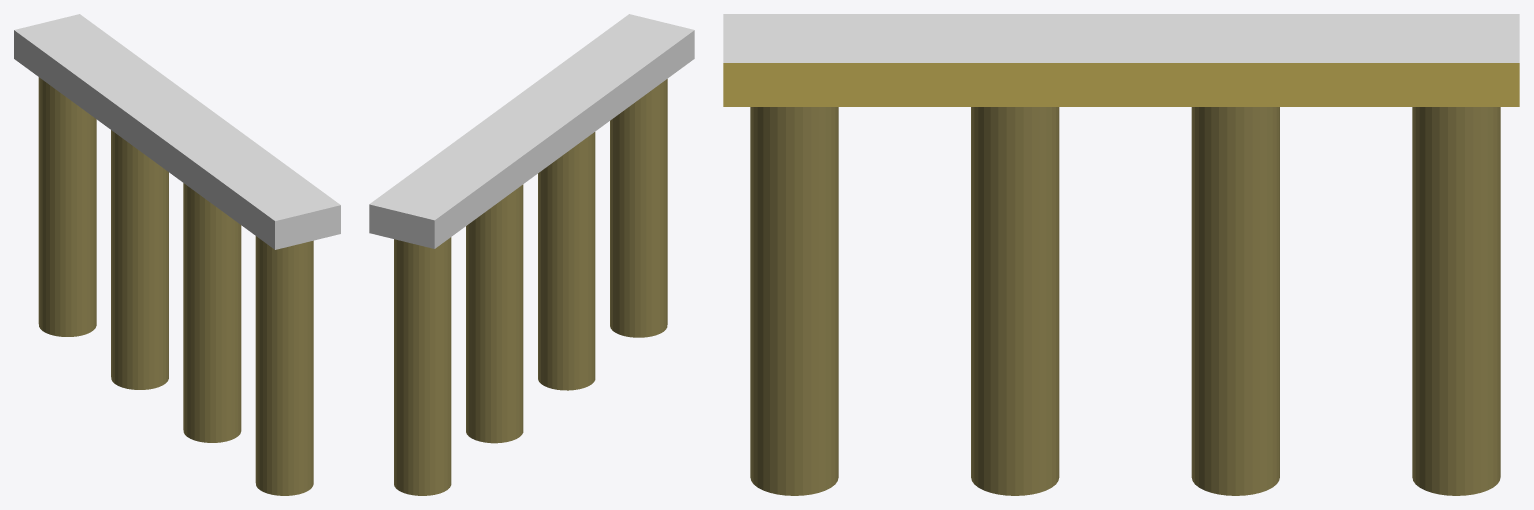
The model's file is pylones.fbx.
3 renders of one model, left to right at view 1: azimuth 30°, elevation 25°; view 2: azimuth 150°, elevation 25°; view 3: azimuth 270°, elevation 25°, orthographic. The views are drawn at different scales.
Parts seen in each view (by area): view 1: Cube, Cylinder.004, Cylinder, Cylinder.001, Cylinder.002; view 2: Cube, Cylinder, Cylinder.002, Cylinder.001, Cylinder.004; view 3: Cube, Cylinder.001, Cylinder.002, Cylinder, Cylinder.004.
Boxes of the visible parts, box(x1,y1,x2,y2) form: Cube: box(14, 14, 340, 249); Cylinder.004: box(255, 236, 313, 495); Cylinder: box(38, 77, 96, 336); Cylinder.001: box(183, 183, 241, 442); Cylinder.002: box(111, 130, 168, 389); Cube: box(369, 14, 694, 248); Cylinder: box(394, 237, 451, 495); Cylinder.002: box(466, 184, 523, 443); Cylinder.001: box(538, 132, 595, 390); Cylinder.004: box(610, 79, 667, 337); Cube: box(723, 14, 1519, 106); Cylinder.001: box(971, 107, 1059, 495); Cylinder.002: box(1191, 107, 1279, 495); Cylinder: box(1412, 107, 1500, 495); Cylinder.004: box(750, 107, 838, 495).
Size of the model in its own units: 263 by 1097 by 1805.
